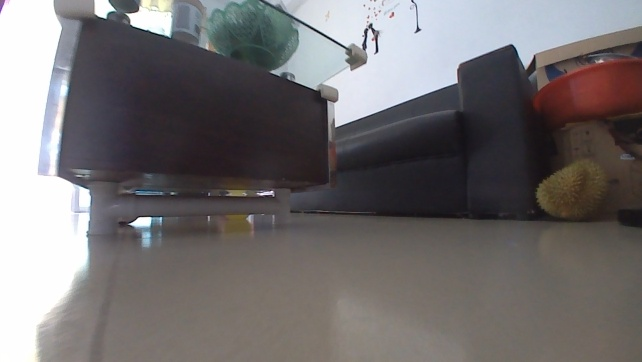sofa: (293, 40, 560, 219)
tea_table1: (33, 0, 371, 239)
